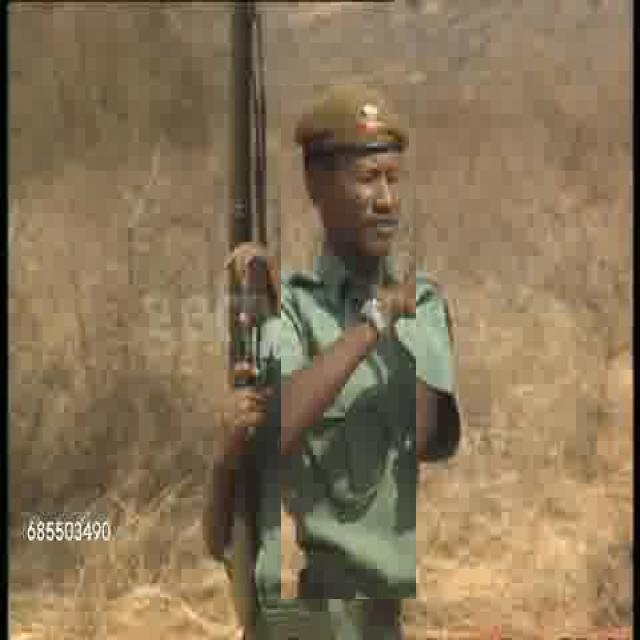poacher: (281, 84, 416, 599)
weapon: (222, 2, 260, 630)
